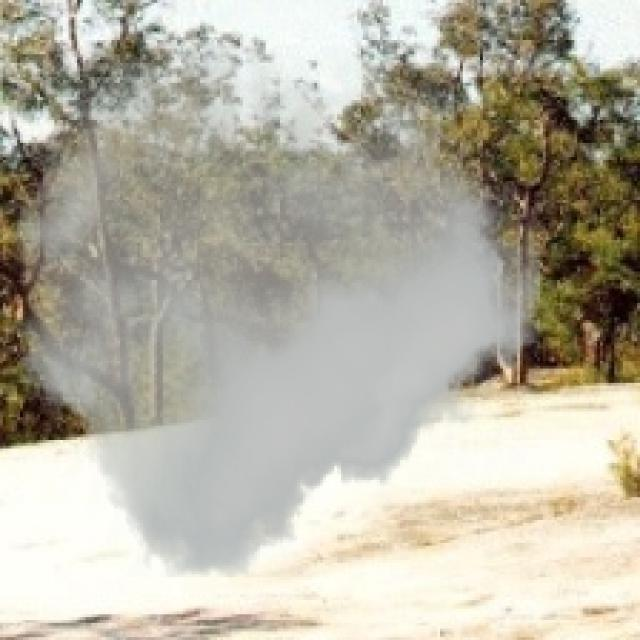Smoke: (11, 45, 540, 578)
